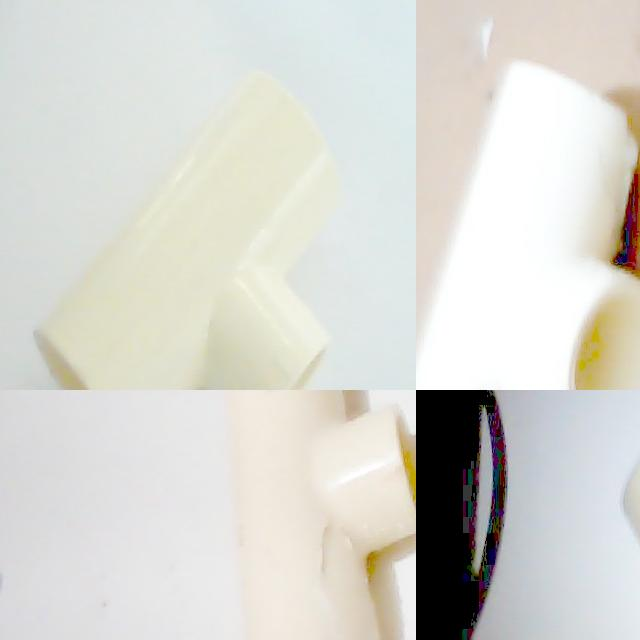Defective: (316, 513, 367, 640)
T Joint: (32, 71, 343, 390), (416, 60, 640, 390), (229, 390, 416, 640)
